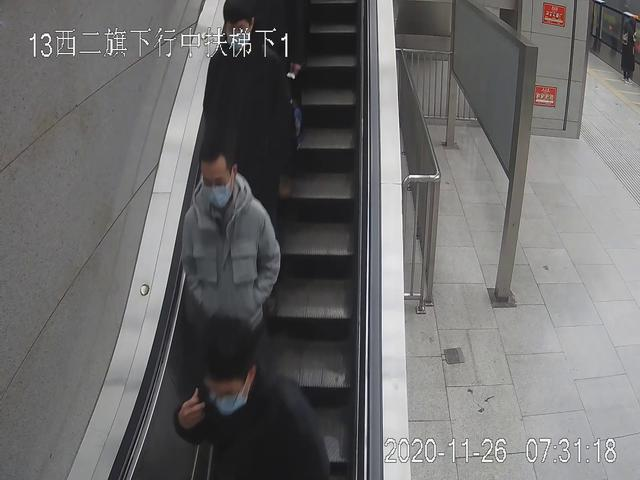person: (181, 147, 281, 479), (204, 1, 288, 314), (176, 317, 331, 480)
